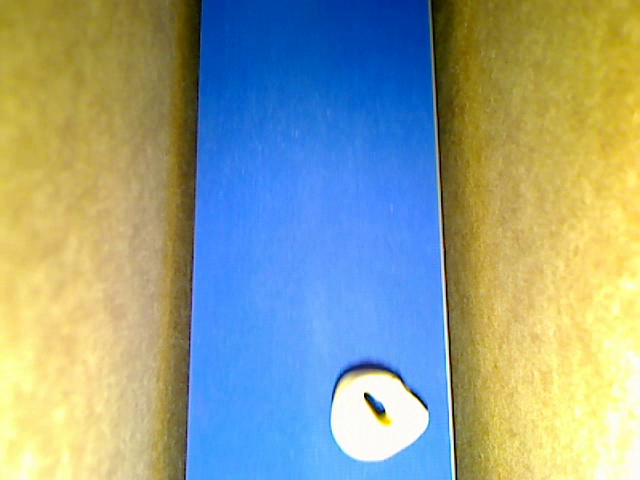tortellini: (329, 370, 429, 460)
